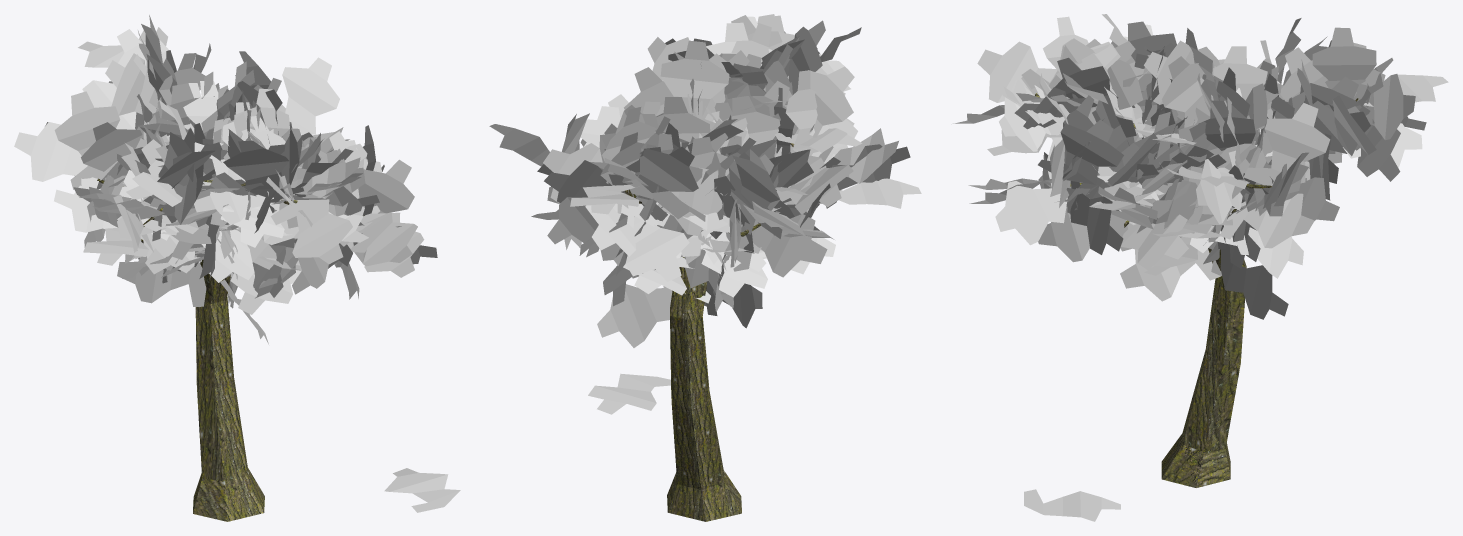
The model's file is Arbol.fbx.
The picture shows the model from 3 angles, left to right: view 1: azimuth 30°, elevation 25°; view 2: azimuth 150°, elevation 25°; view 3: azimuth 270°, elevation 25°; orthographic projection. The views are drawn at different scales.
Parts seen in each view (by area): view 1: Cube, Cube|Plane|Dupli|89, Cube|Plane|Dupli|168, Cube|Plane|Dupli|159, Cube|Plane|Dupli|165, Cube|Plane|Dupli|81, Cube|Plane|Dupli|133, Cube|Plane|Dupli|10, Cube|Plane|Dupli|163, Cube|Plane|Dupli|128, Plane, Cube|Plane|Dupli|47 (+39 smaller); view 2: Cube, Cube|Plane|Dupli|194, Cube|Plane|Dupli|19, Cube|Plane|Dupli|164, Cube|Plane|Dupli|41, Cube|Plane|Dupli|47, Cube|Plane|Dupli|69, Plane, Cube|Plane|Dupli|48, Cube|Plane|Dupli|165, Cube|Plane|Dupli|228, Cube|Plane|Dupli|230 (+43 smaller); view 3: Cube, Cube|Plane|Dupli|176, Cube|Plane|Dupli|129, Cube|Plane|Dupli|132, Cube|Plane|Dupli|52, Cube|Plane|Dupli|185, Cube|Plane|Dupli|19, Cube|Plane|Dupli|91, Cube|Plane|Dupli|298, Cube|Plane|Dupli|40, Cube|Plane|Dupli|202, Cube|Plane|Dupli|131 (+45 smaller).
Part boxes in pixels (x1,y1,x2,y2): Cube: (97,178,364,521); Cube|Plane|Dupli|89: (270,199,352,264); Cube|Plane|Dupli|168: (282,57,339,134); Cube|Plane|Dupli|159: (14,122,98,189); Cube|Plane|Dupli|165: (54,91,120,189); Cube|Plane|Dupli|81: (223,140,305,199); Cube|Plane|Dupli|133: (340,212,417,266); Cube|Plane|Dupli|10: (117,256,206,306); Cube|Plane|Dupli|163: (81,122,142,184); Cube|Plane|Dupli|128: (358,159,414,213); Plane: (384,468,460,512); Cube|Plane|Dupli|47: (105,53,156,139); Cube: (625,143,794,521); Cube|Plane|Dupli|194: (660,40,729,130); Cube|Plane|Dupli|19: (597,284,672,347); Cube|Plane|Dupli|164: (724,214,827,277); Cube|Plane|Dupli|41: (625,202,689,281); Cube|Plane|Dupli|47: (636,146,698,221); Cube|Plane|Dupli|69: (795,66,854,137); Plane: (588,373,670,414); Cube|Plane|Dupli|48: (585,203,658,256); Cube|Plane|Dupli|165: (732,149,782,238); Cube|Plane|Dupli|228: (785,70,818,155); Cube|Plane|Dupli|230: (839,178,921,208); Cube: (1035,93,1358,487); Cube|Plane|Dupli|176: (1243,102,1330,185); Cube|Plane|Dupli|129: (995,171,1067,245); Cube|Plane|Dupli|132: (1038,119,1123,184); Cube|Plane|Dupli|52: (1312,27,1376,101); Cube|Plane|Dupli|185: (1219,193,1314,248); Cube|Plane|Dupli|19: (1220,243,1288,319); Cube|Plane|Dupli|91: (977,41,1057,102); Cube|Plane|Dupli|298: (1120,204,1188,270); Cube|Plane|Dupli|40: (1363,74,1415,140); Cube|Plane|Dupli|202: (1162,56,1226,127); Cube|Plane|Dupli|131: (1070,181,1123,254).
Size of the model in its own units: 1129 by 1429 by 1451.
